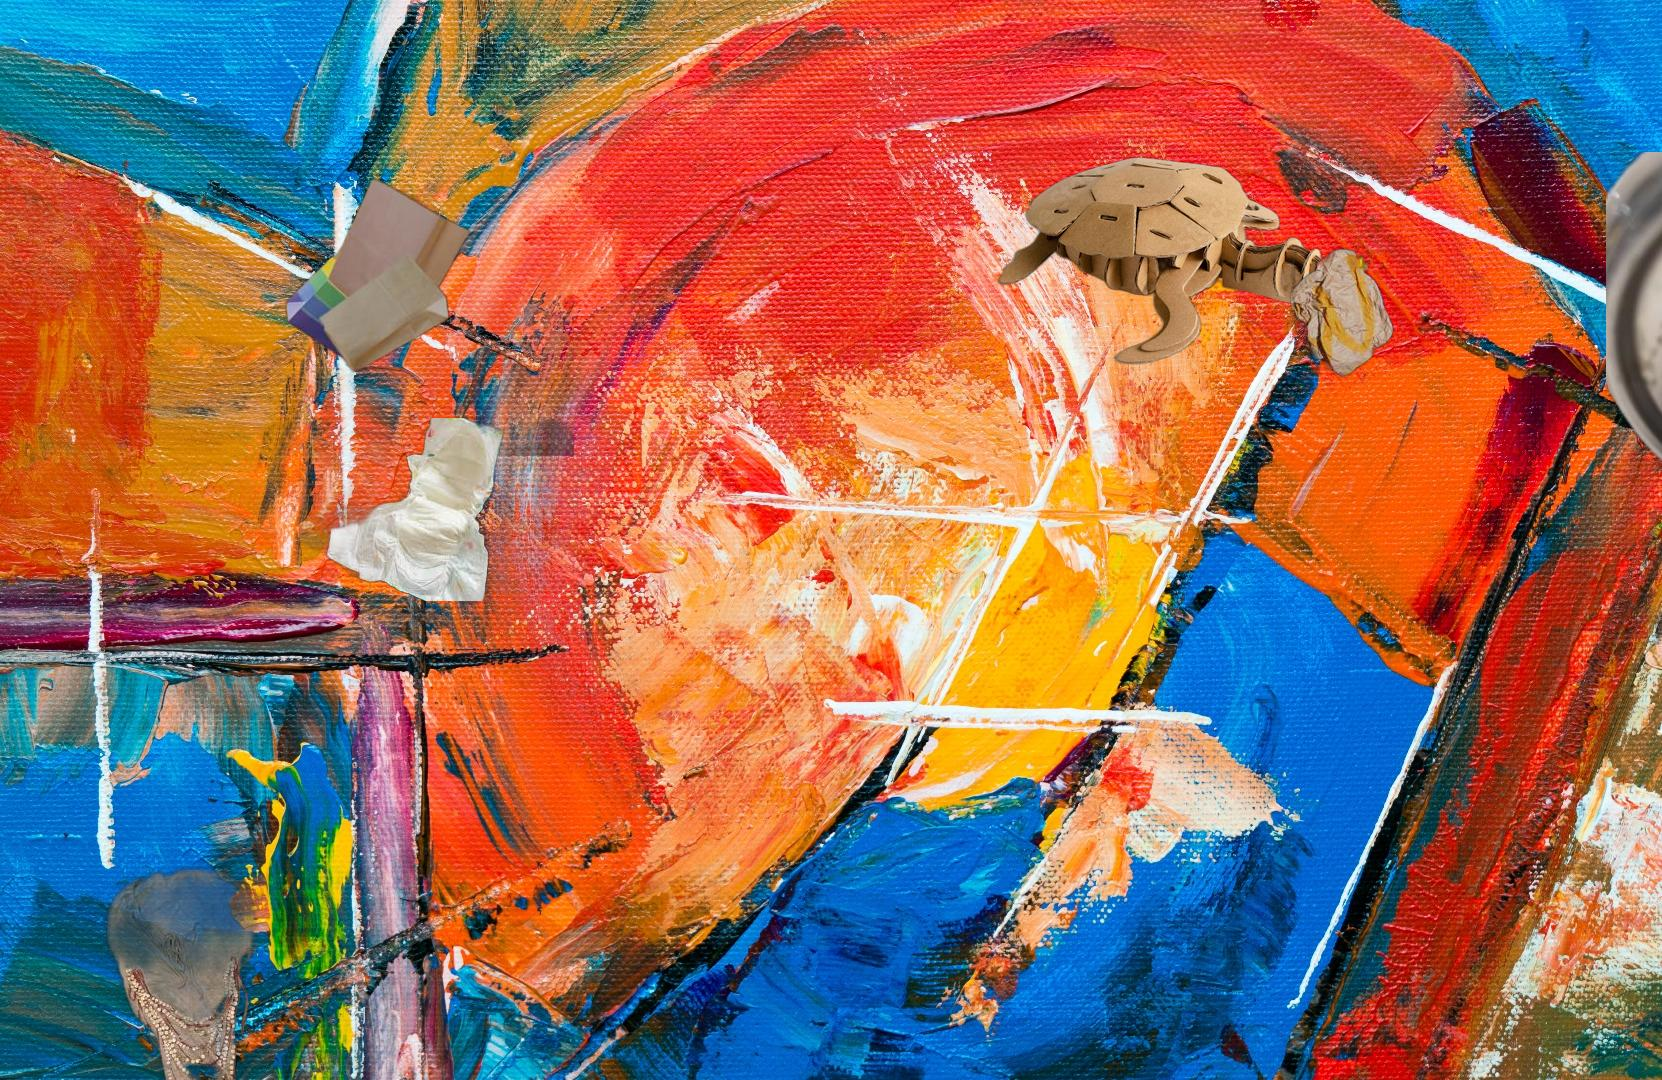biological: (1559, 513, 1662, 696)
clothes: (102, 861, 280, 1080)
metal-cans: (1606, 153, 1662, 524)
paper-bag: (274, 176, 574, 456), (1255, 232, 1395, 381)
trash: (299, 418, 508, 601)
trashbox-cardboard: (995, 155, 1336, 364)
